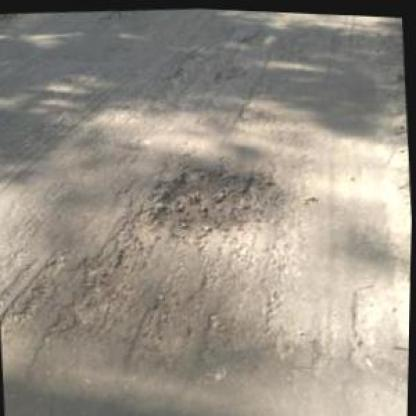pothole: (147, 157, 283, 247)
